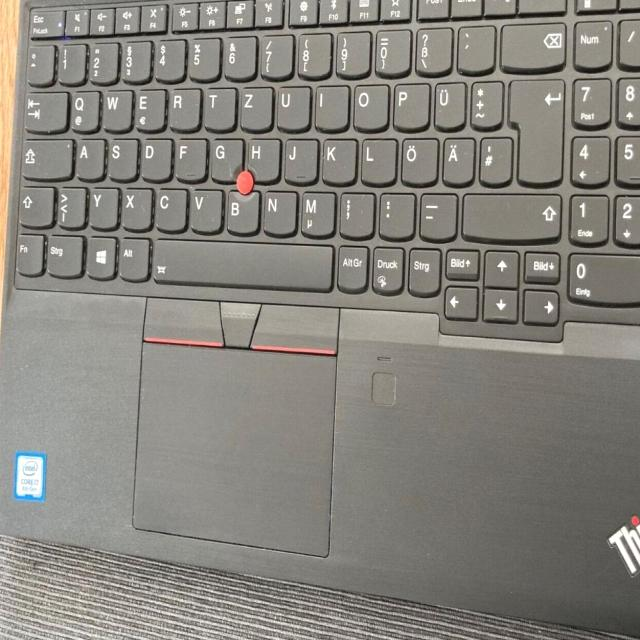0: (372, 26, 410, 74)
1: (56, 40, 84, 82)
2: (87, 38, 117, 81)
3: (119, 37, 149, 81)
4: (153, 35, 184, 79)
5: (187, 34, 219, 78)
6: (222, 32, 255, 77)
7: (259, 31, 292, 77)
8: (295, 29, 329, 76)
9: (333, 27, 369, 74)
a: (75, 136, 103, 178)
accent: (455, 20, 493, 70)
ae: (441, 133, 473, 183)
alt-left: (116, 234, 147, 279)
altgr-right: (335, 241, 367, 289)
b: (224, 186, 258, 232)
c: (153, 184, 185, 229)
caret: (24, 41, 52, 83)
comma: (337, 188, 373, 236)
d: (140, 135, 170, 180)
del: (499, 18, 566, 68)
e: (133, 85, 164, 129)
enter: (506, 74, 564, 184)
f: (173, 135, 205, 179)
g: (209, 135, 241, 181)
h: (245, 135, 279, 180)
hash: (477, 133, 510, 183)
i: (313, 82, 348, 129)
j: (282, 135, 316, 182)
k: (319, 134, 355, 182)
keyboard: (9, 0, 640, 363)
l: (359, 134, 395, 183)
less: (56, 183, 85, 227)
m: (298, 187, 334, 235)
minus: (417, 189, 457, 238)
n: (261, 187, 296, 234)
o: (350, 81, 387, 129)
oe: (399, 134, 437, 183)
p: (390, 79, 428, 129)
plus: (468, 76, 501, 126)
point: (376, 188, 414, 236)
q: (68, 87, 98, 130)
r: (166, 85, 199, 129)
s: (106, 135, 136, 178)
shift-left: (15, 182, 52, 225)
shift-lock: (19, 135, 71, 178)
shift-right: (459, 189, 561, 239)
space: (151, 236, 333, 288)
ss: (413, 23, 451, 71)
strg-left: (44, 232, 82, 276)
strg-right: (406, 244, 440, 294)
t: (203, 84, 235, 129)
tab: (22, 88, 66, 131)
u: (274, 82, 309, 129)
ue: (432, 78, 464, 128)
v: (188, 185, 221, 231)
w: (101, 86, 131, 130)
x: (120, 184, 150, 229)
y: (88, 184, 117, 228)
z: (239, 83, 272, 129)
